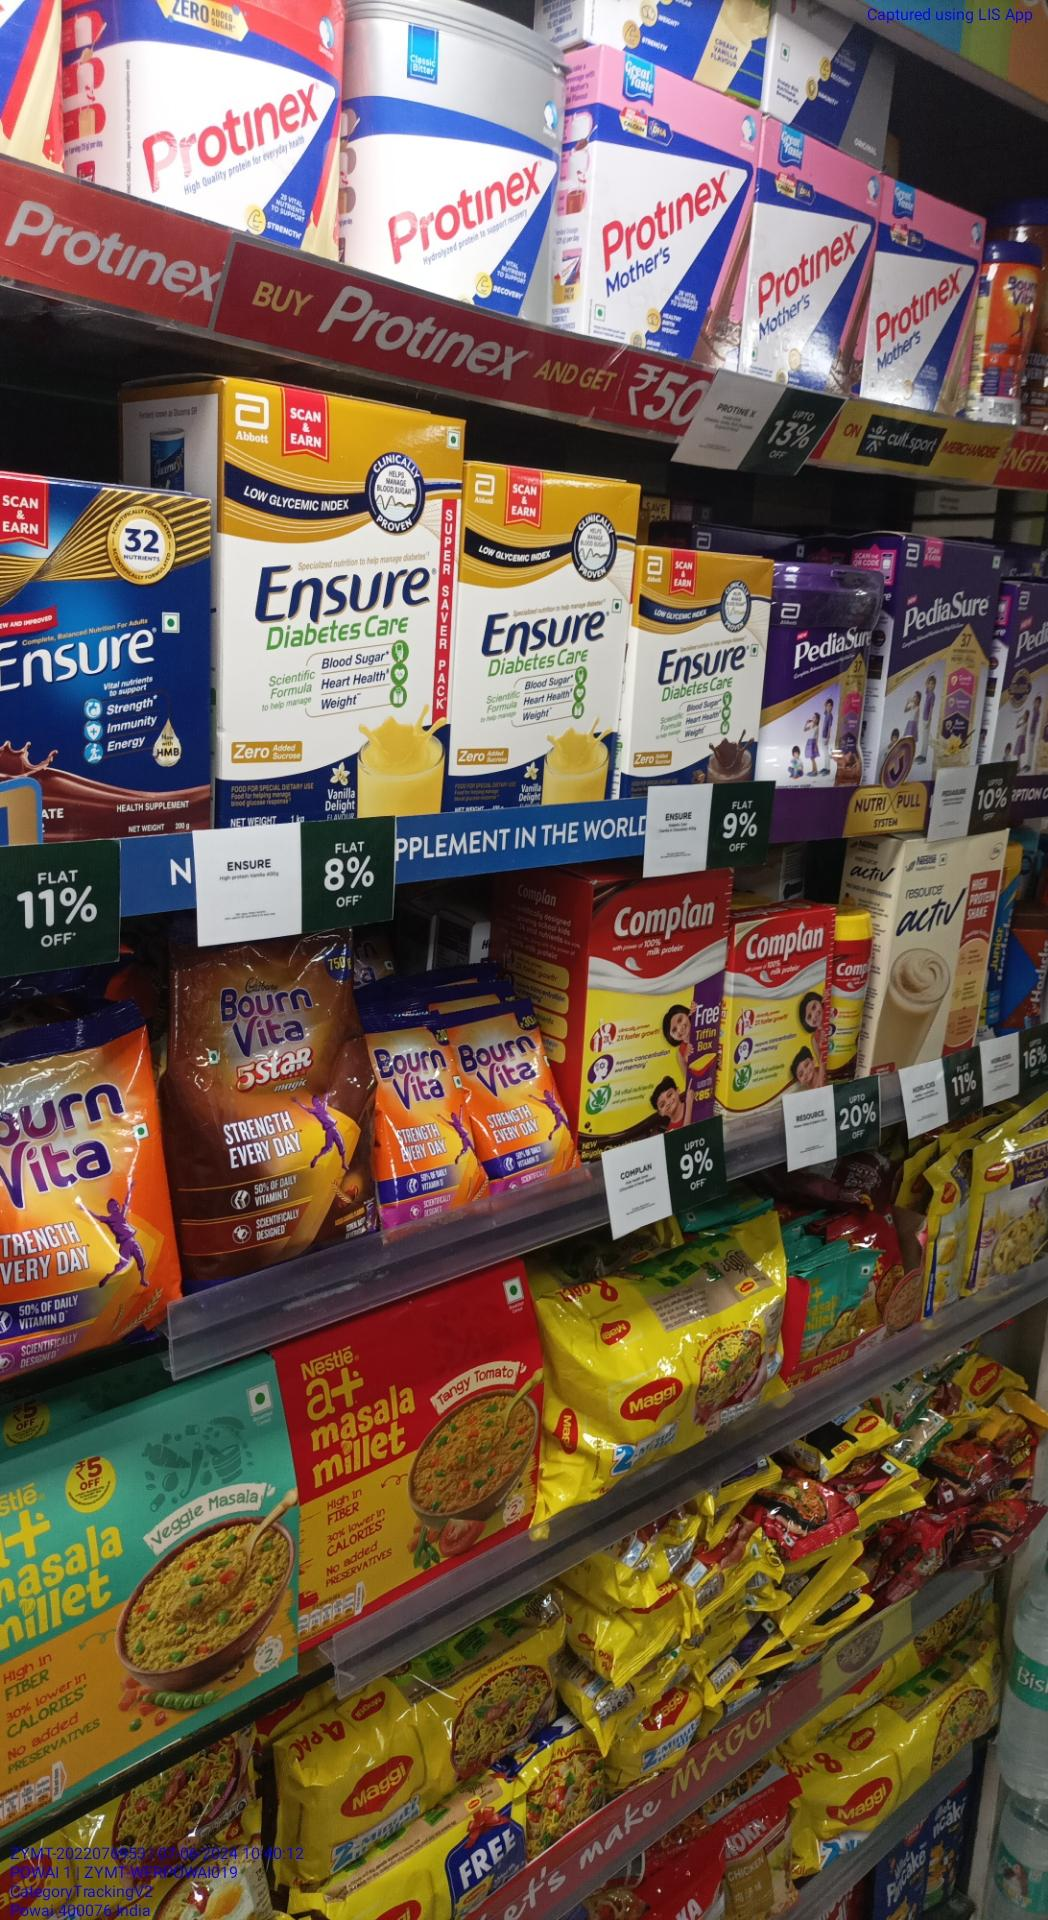BOURN_VITA_FIVE_STAR_MAGIC_750_G_POUCH: (169, 956, 379, 1235)
PROTINEX_ORIGINAL_400_G_JAR: (351, 44, 559, 271)
